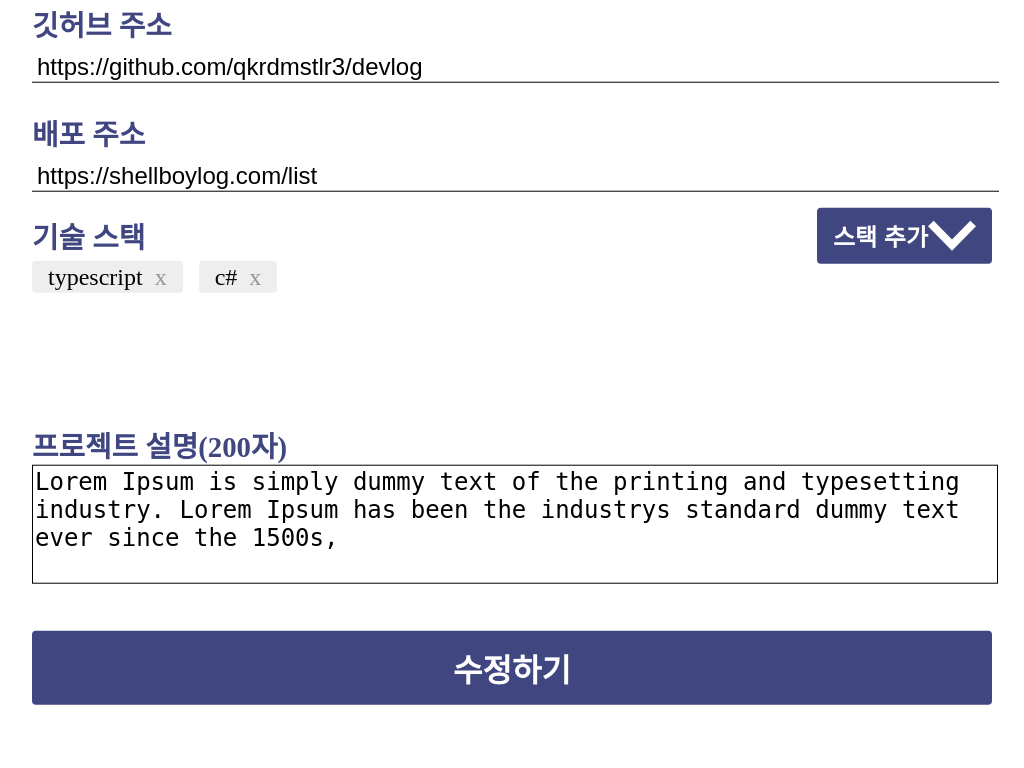
Component/Organism/ProjectModal › 제출 후 에러 발생
(page scrolled)
What coordinates should you click on to do the following:
click the button "수정하기"
I would click on:
 (512, 668)
Its box is [32,631,992,704].
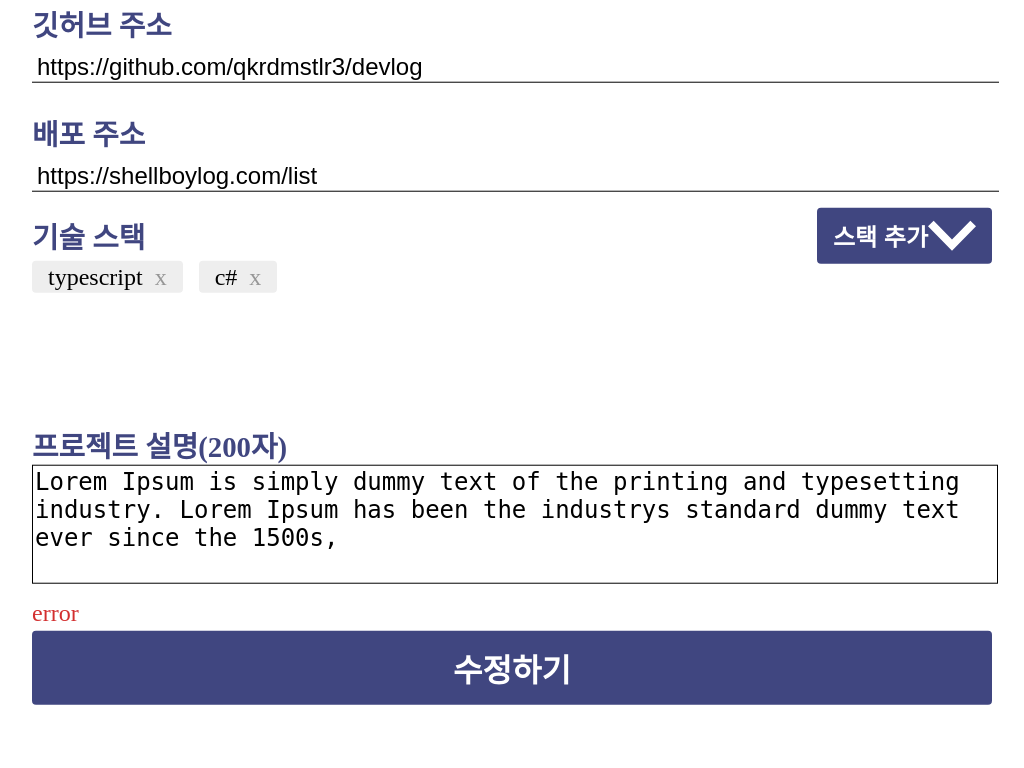
Now the text "error" is shown, box [32,600,79,626]
